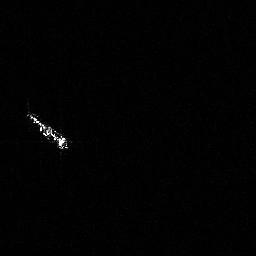ship: (23, 108, 75, 154)
